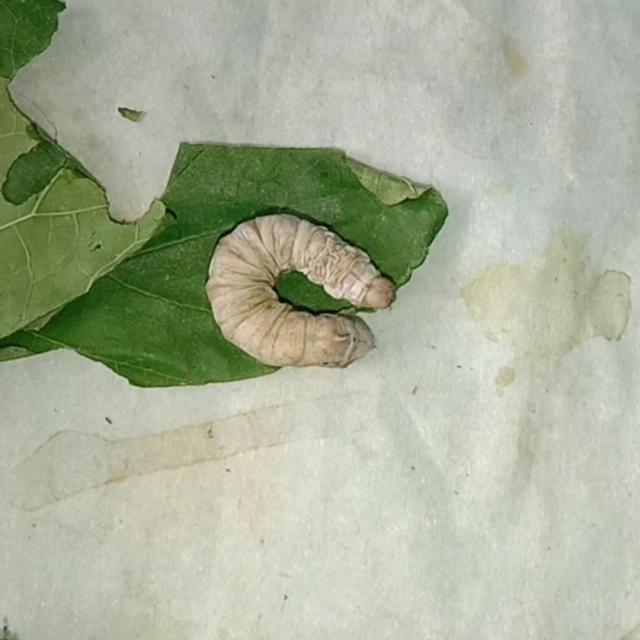Grasserie: (195, 164, 426, 416)
